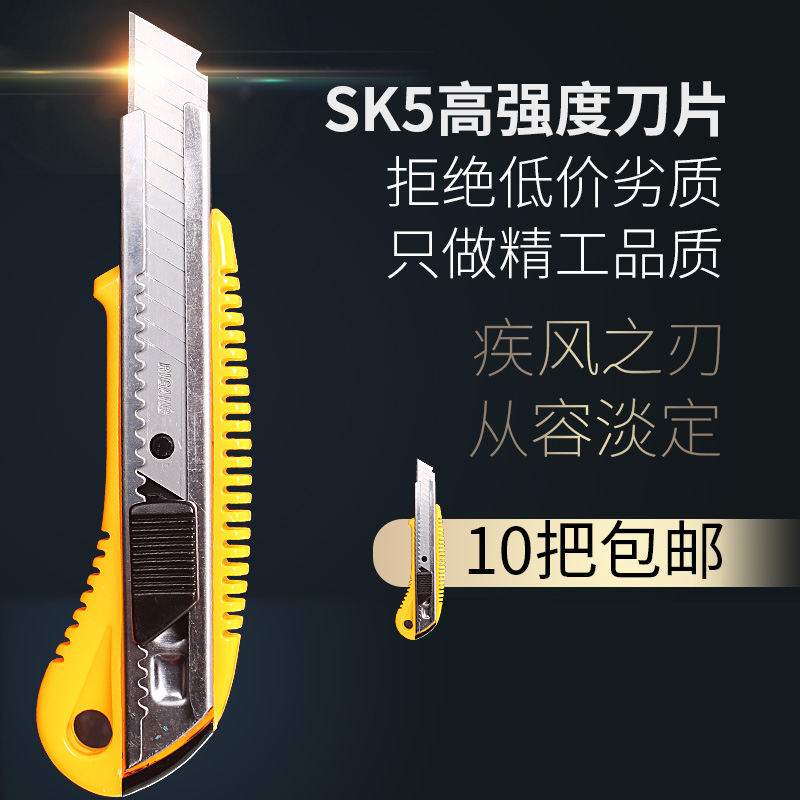cutter: (30, 9, 259, 796)
